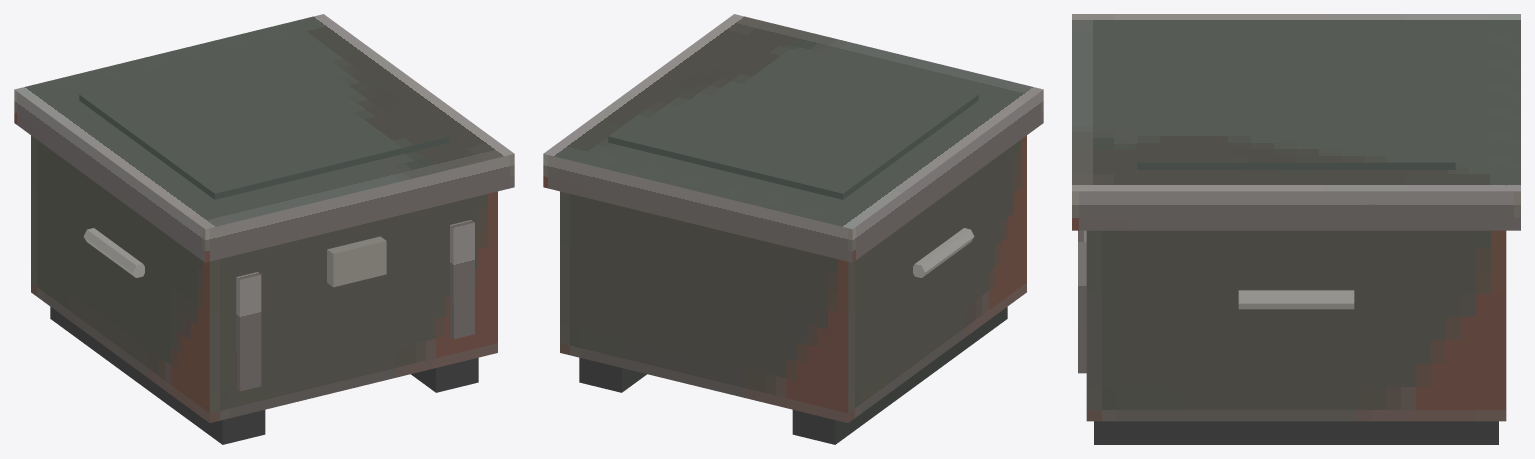
The model's file is Building_AncientSmallCrate.glb.
The picture shows the model from 3 angles, left to right: view 1: azimuth 30°, elevation 25°; view 2: azimuth 150°, elevation 25°; view 3: azimuth 270°, elevation 25°; orthographic projection. The views are drawn at different scales.
Parts seen in each view (by area): view 1: AncientSmallCrate; view 2: AncientSmallCrate; view 3: AncientSmallCrate.
Part boxes in pixels (x1,y1,x2,y2): AncientSmallCrate: (14, 14, 514, 444); AncientSmallCrate: (543, 14, 1043, 444); AncientSmallCrate: (1072, 14, 1520, 444).
Bounding box in the file's own units: 0.586 × 0.421 × 0.62.
1 material, 1 textured.
